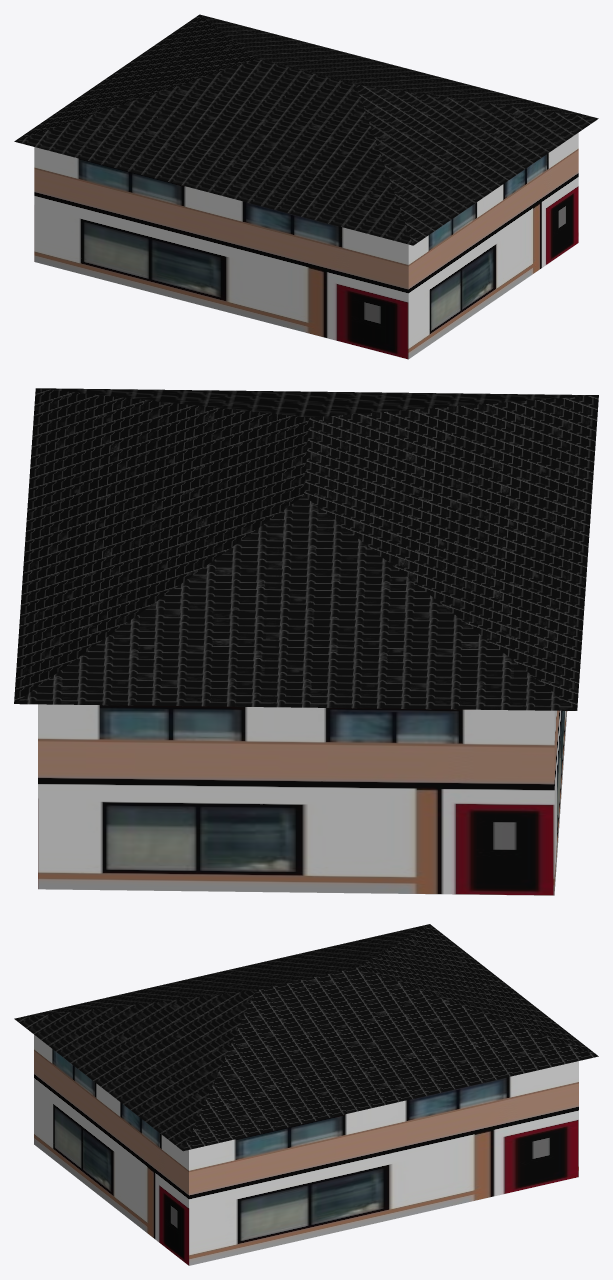
3 renders of one model, top to bottom at view 1: azimuth 30°, elevation 25°; view 2: azimuth 150°, elevation 25°; view 3: azimuth 270°, elevation 25°, orthographic. The views are drawn at different scales.
Visible parts, largest first — view 1: CityEngineMaterial_14_m, CityEngineMaterial_5_m; view 2: CityEngineMaterial_14_m, CityEngineMaterial_5_m; view 3: CityEngineMaterial_14_m, CityEngineMaterial_5_m.
Boxes of the visible parts, bbox=[...] form: CityEngineMaterial_14_m: bbox=[14, 14, 598, 245]; CityEngineMaterial_5_m: bbox=[34, 133, 578, 359]; CityEngineMaterial_14_m: bbox=[14, 388, 598, 710]; CityEngineMaterial_5_m: bbox=[38, 704, 567, 895]; CityEngineMaterial_14_m: bbox=[14, 924, 598, 1151]; CityEngineMaterial_5_m: bbox=[34, 1035, 578, 1265].
Size of the model in its own units: 34.13 by 12.74 by 37.13.
